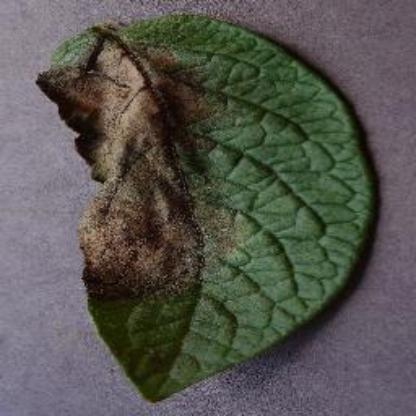Late-Blight: (35, 11, 375, 403)
